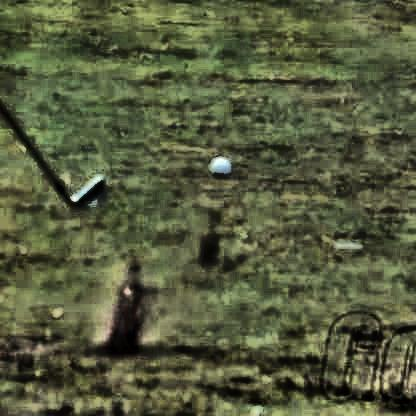golfball: (207, 154, 229, 176)
